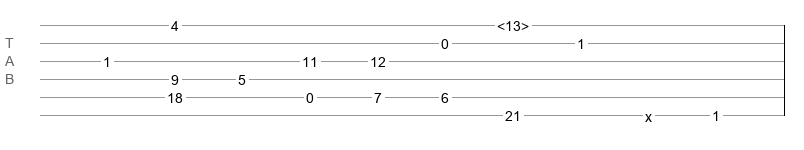0: (306, 90, 314, 100), (441, 36, 449, 46)
1: (103, 54, 111, 64), (577, 36, 585, 46), (712, 108, 720, 118)
11: (302, 54, 318, 64)
12: (370, 54, 386, 64)
18: (167, 90, 183, 100)
21: (505, 108, 521, 118)
4: (171, 18, 179, 28)
5: (238, 72, 246, 82)
6: (441, 90, 449, 100)
7: (374, 90, 382, 100)
9: (171, 72, 179, 82)
harmonic: (497, 18, 529, 28)
x: (645, 109, 652, 117)
